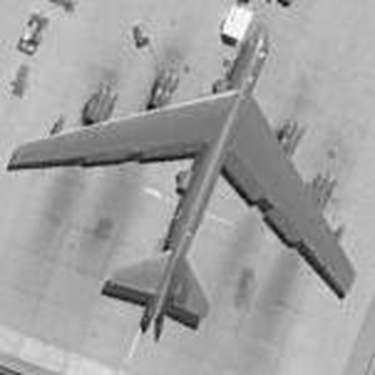airplane: (9, 10, 367, 348)
